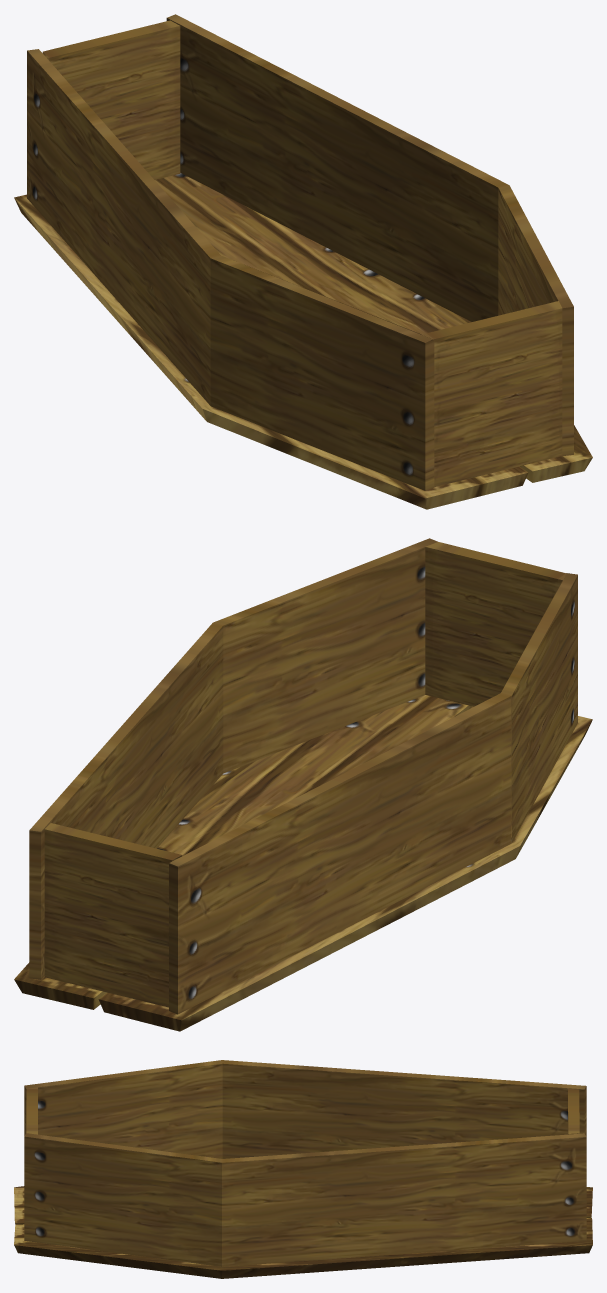
File: Coffin01.FBX
The picture shows the model from 3 angles, top to bottom: view 1: azimuth 30°, elevation 25°; view 2: azimuth 150°, elevation 25°; view 3: azimuth 270°, elevation 25°; orthographic projection. The views are drawn at different scales.
Visible parts, largest first — view 1: Coffin01; view 2: Coffin01; view 3: Coffin01.
Boxes of the visible parts, bbox=[...] form: Coffin01: bbox=[14, 14, 592, 509]; Coffin01: bbox=[14, 538, 592, 1031]; Coffin01: bbox=[14, 1060, 592, 1278].
Size of the model in its own units: 13.14 by 6.43 by 29.44.
